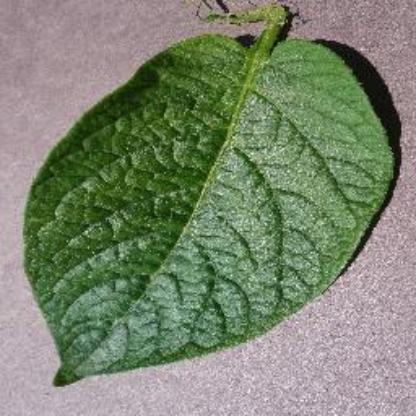Healthy-plant: (16, 7, 402, 386)
